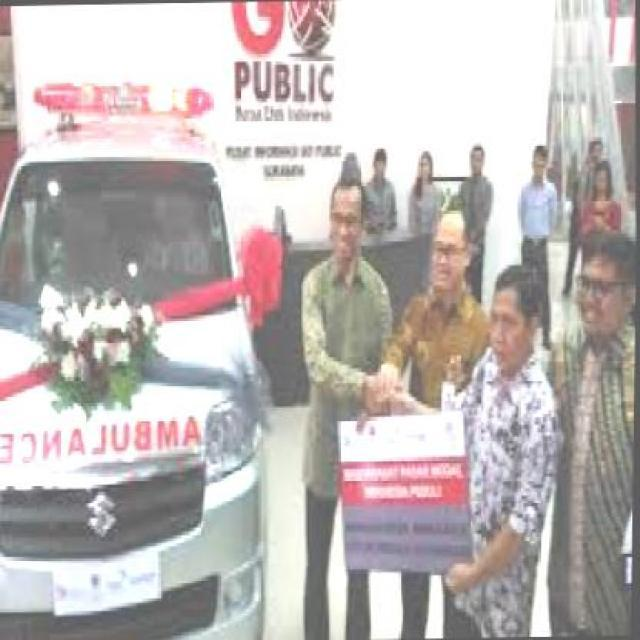emergency-vehicle: (0, 75, 272, 639)
